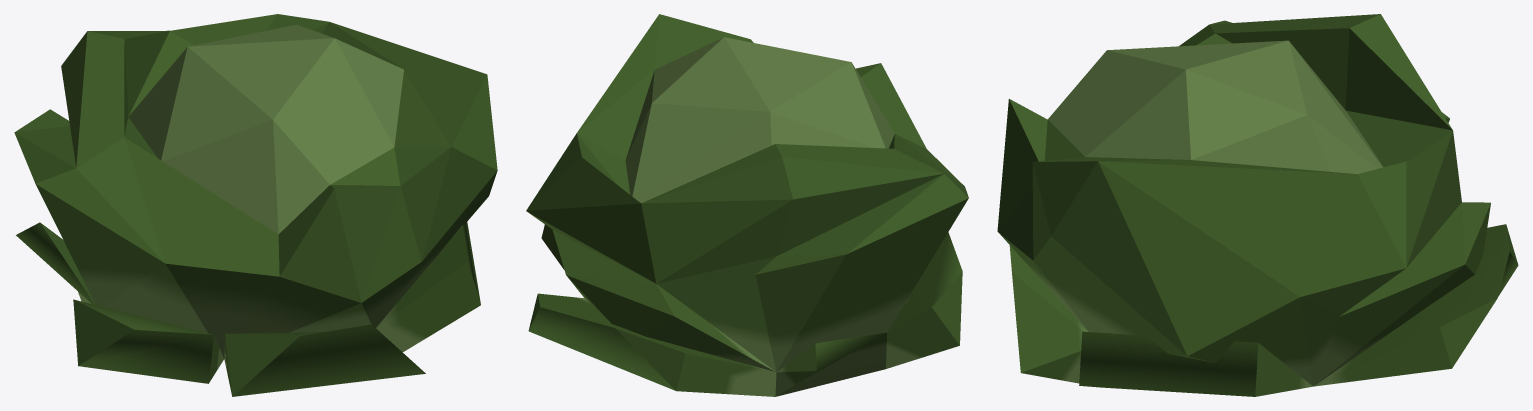
Rendered from SM_Prop_Cabbage_01_M.glb.
The picture shows the model from 3 angles, left to right: view 1: azimuth 30°, elevation 25°; view 2: azimuth 150°, elevation 25°; view 3: azimuth 270°, elevation 25°; orthographic projection. The views are drawn at different scales.
Parts seen in each view (by area): view 1: SM_Prop_Cabbage_01_M; view 2: SM_Prop_Cabbage_01_M; view 3: SM_Prop_Cabbage_01_M.
Boxes of the visible parts, x1=… form: SM_Prop_Cabbage_01_M: x1=14, y1=14, x2=497, y2=396; SM_Prop_Cabbage_01_M: x1=526, y1=14, x2=968, y2=396; SM_Prop_Cabbage_01_M: x1=997, y1=14, x2=1518, y2=396.
Size of the model in its own units: 0.3068 by 0.2004 by 0.2961.
Materials: 1 (1 with a texture image).
